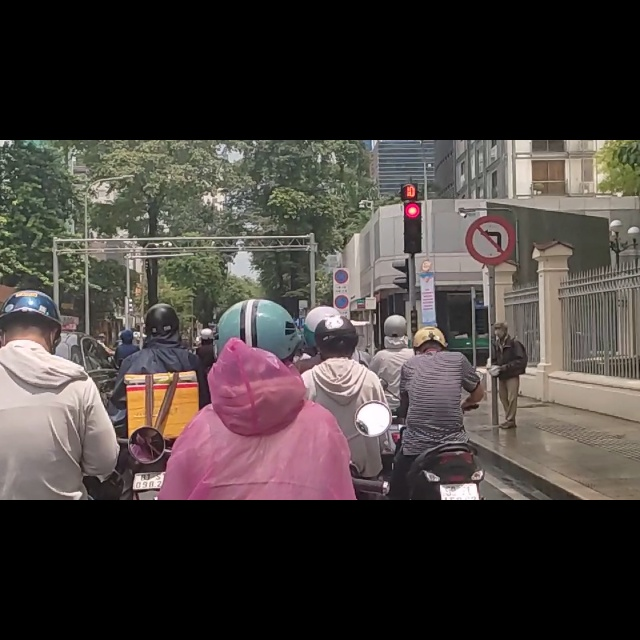bien_cam: (466, 133, 517, 219), (333, 229, 349, 257), (334, 273, 350, 301)
